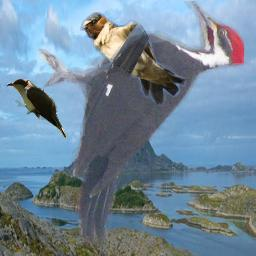Cuckoo: (5, 79, 66, 140)
Swallow: (80, 12, 186, 106)
Woodpecker: (37, 1, 250, 248)
